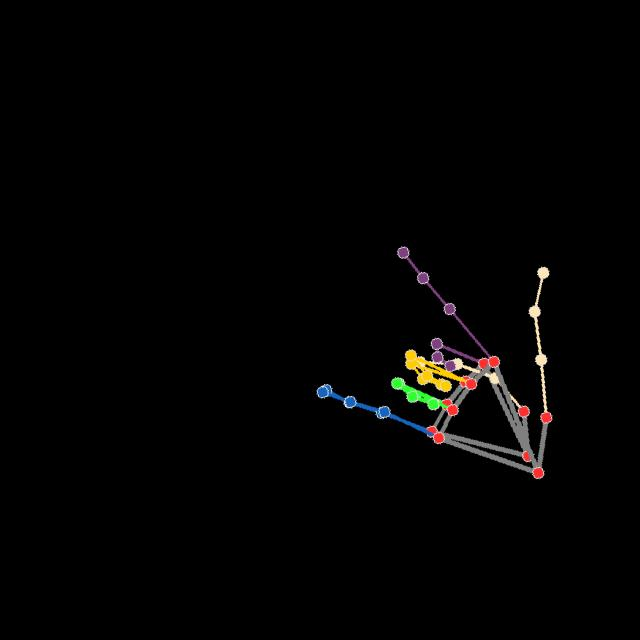spiderman: (314, 243, 553, 482)
